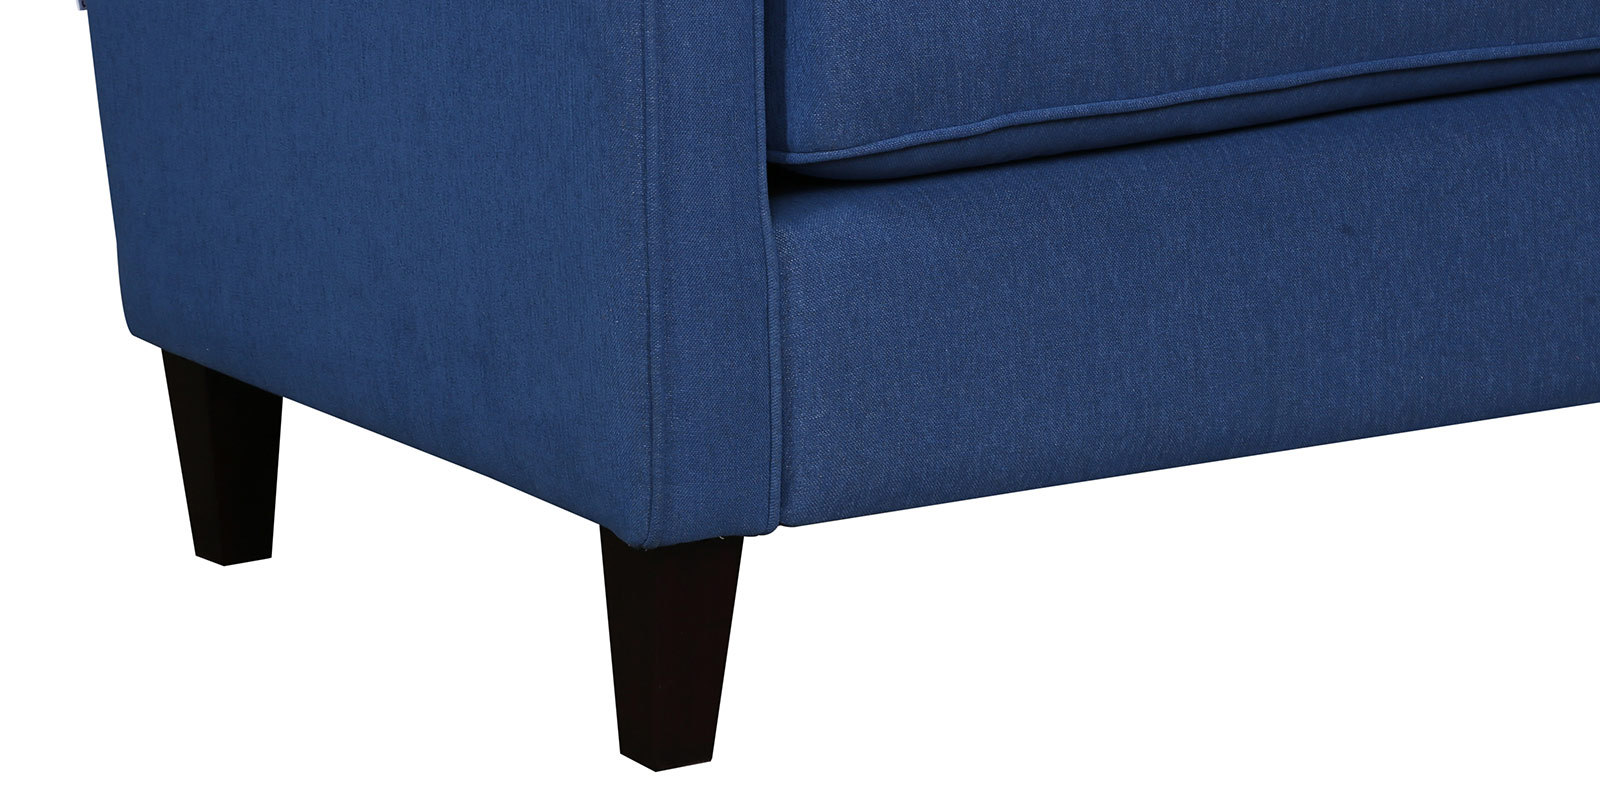Oscar Three Seater Sofa in Denim Blue Colour by CasaCraft: (80, 1, 1600, 776)
